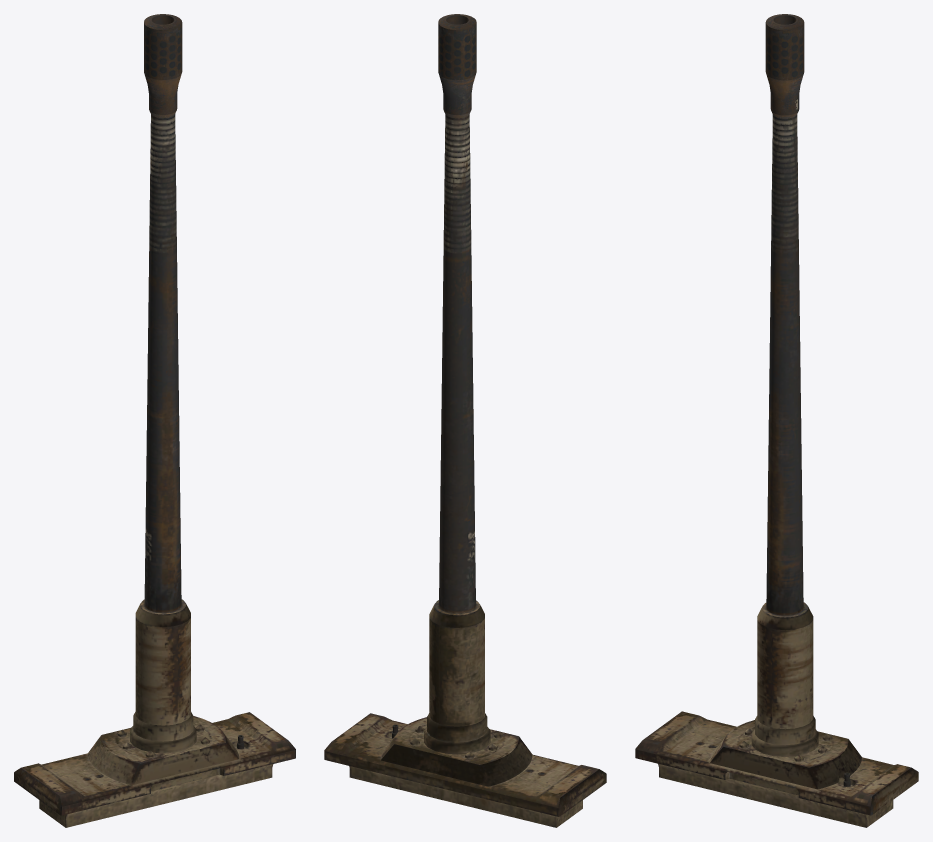
Rendered from Gun_02.glb.
3 views of the same model, side by side, from view 1: azimuth 30°, elevation 25°; view 2: azimuth 150°, elevation 25°; view 3: azimuth 330°, elevation 25° (orthographic).
Parts seen in each view (by area): view 1: set_0_group_0; view 2: set_0_group_0; view 3: set_0_group_0.
Part boxes in pixels (x1,y1,x2,y2): set_0_group_0: (14,14,295,827); set_0_group_0: (324,14,606,827); set_0_group_0: (635,14,918,827).
Size of the model in its own units: 1.6 by 5.01 by 0.5606.
1 material, 1 textured.
